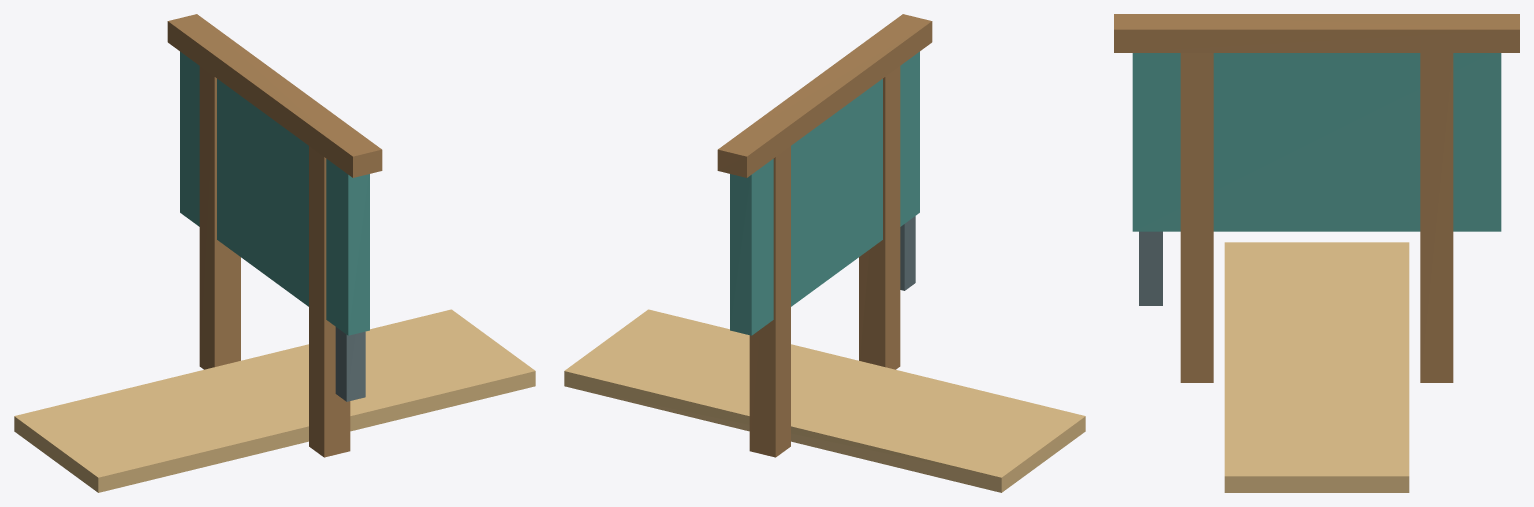
Rendered from farm-sign.source.glb.
3 renders of one model, left to right at view 1: azimuth 30°, elevation 25°; view 2: azimuth 150°, elevation 25°; view 3: azimuth 270°, elevation 25°, orthographic. The views are drawn at different scales.
Parts seen in each view (by area): view 1: farm-sign-base-mesh, farm-sign-panel-mesh, farm-sign-top-trim-mesh, farm-sign-post--0.65-mesh, farm-sign-post-0.65-mesh, farm-sign-brace-mesh; view 2: farm-sign-base-mesh, farm-sign-panel-mesh, farm-sign-top-trim-mesh, farm-sign-post--0.65-mesh, farm-sign-post-0.65-mesh, farm-sign-brace-mesh; view 3: farm-sign-panel-mesh, farm-sign-base-mesh, farm-sign-top-trim-mesh, farm-sign-post--0.65-mesh, farm-sign-post-0.65-mesh, farm-sign-brace-mesh.
Boxes of the visible parts, x1,y1,x2,y2 form: farm-sign-base-mesh: (14, 309, 535, 492); farm-sign-panel-mesh: (180, 51, 369, 335); farm-sign-top-trim-mesh: (167, 14, 382, 177); farm-sign-post--0.65-mesh: (199, 66, 240, 369); farm-sign-post-0.65-mesh: (309, 146, 350, 457); farm-sign-brace-mesh: (335, 327, 365, 401); farm-sign-base-mesh: (564, 309, 1085, 492); farm-sign-panel-mesh: (730, 51, 919, 335); farm-sign-top-trim-mesh: (717, 14, 932, 177); farm-sign-post--0.65-mesh: (749, 146, 790, 457); farm-sign-post-0.65-mesh: (859, 66, 900, 369); farm-sign-brace-mesh: (900, 216, 915, 290); farm-sign-panel-mesh: (1132, 53, 1501, 231); farm-sign-base-mesh: (1224, 242, 1409, 492); farm-sign-top-trim-mesh: (1114, 14, 1519, 52); farm-sign-post--0.65-mesh: (1420, 53, 1453, 382); farm-sign-post-0.65-mesh: (1180, 53, 1213, 382); farm-sign-brace-mesh: (1139, 231, 1162, 305).
Bounding box in the file's own units: 3 × 2.12 × 2.2.
